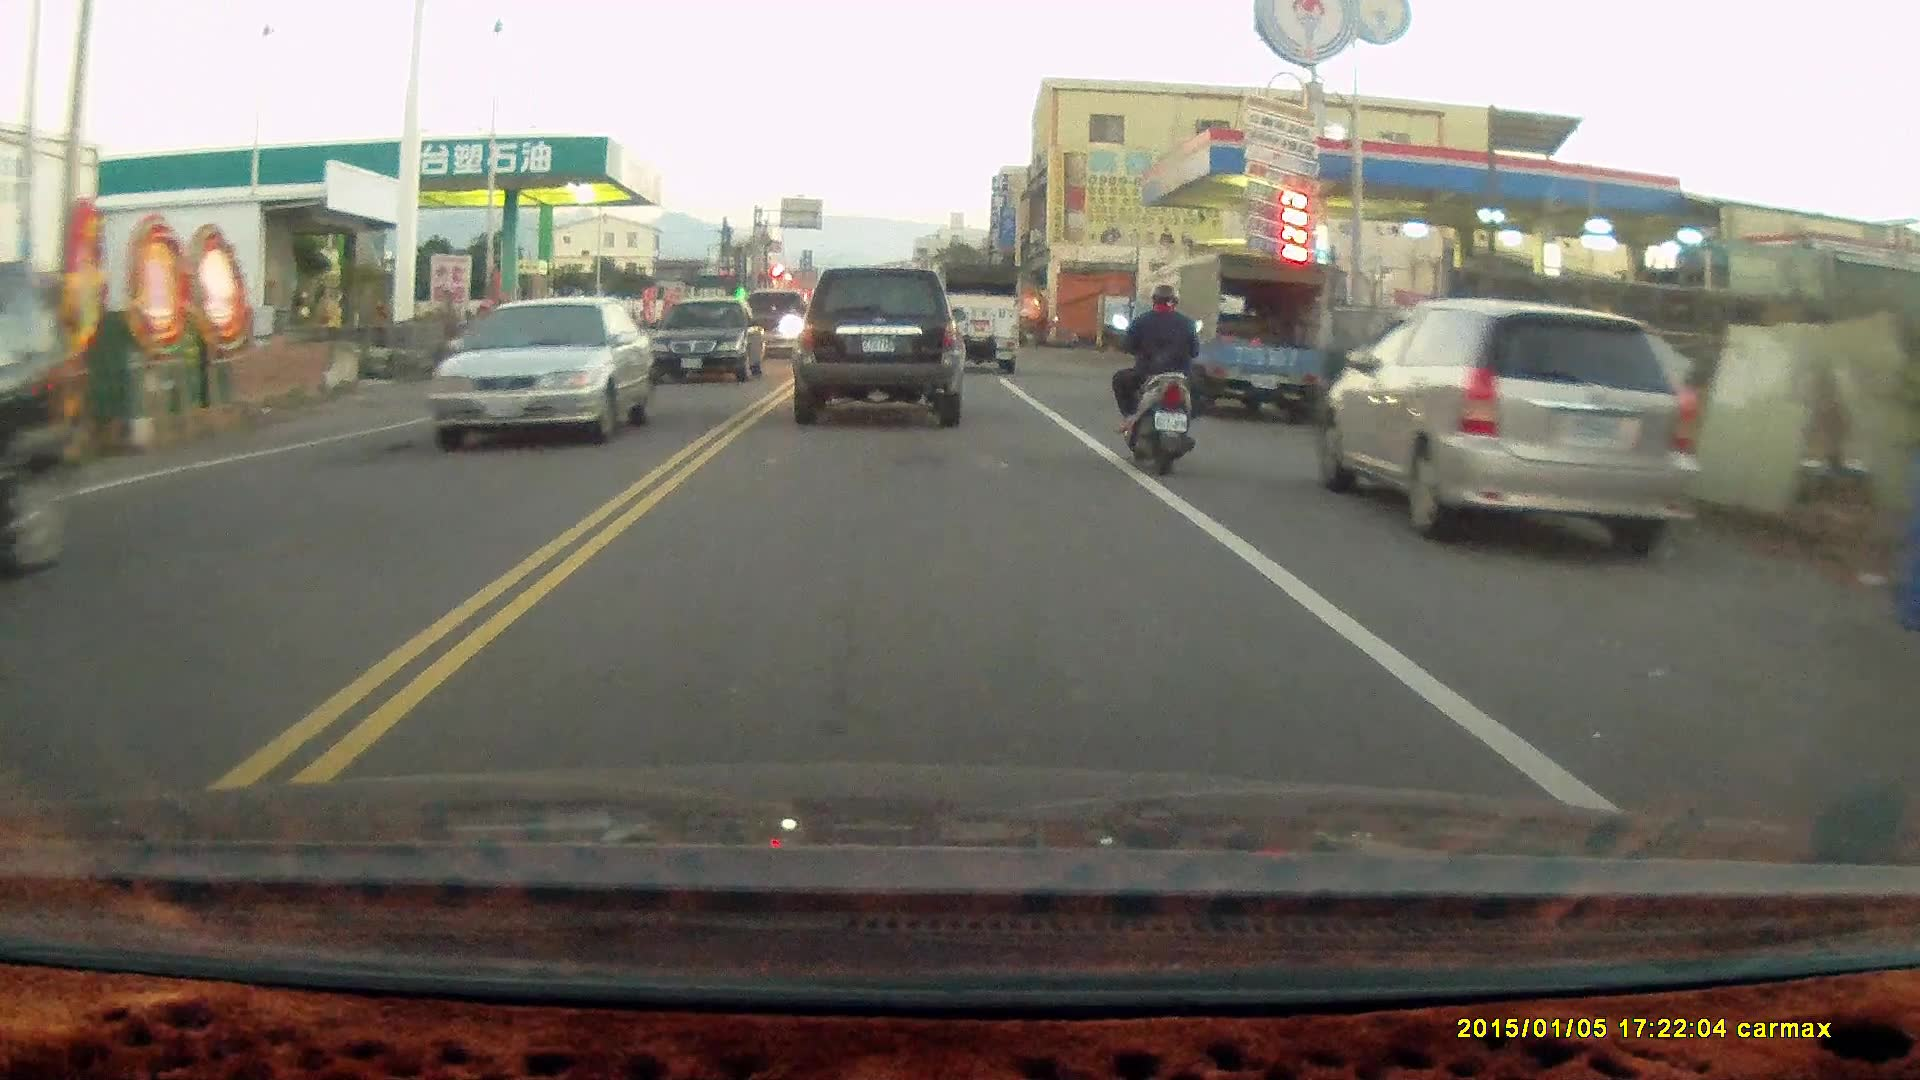rider: (1110, 278, 1209, 472)
vehicle: (1320, 297, 1700, 561), (430, 293, 655, 452), (1154, 253, 1324, 420), (792, 264, 966, 426), (936, 257, 1019, 371), (651, 297, 764, 379)
